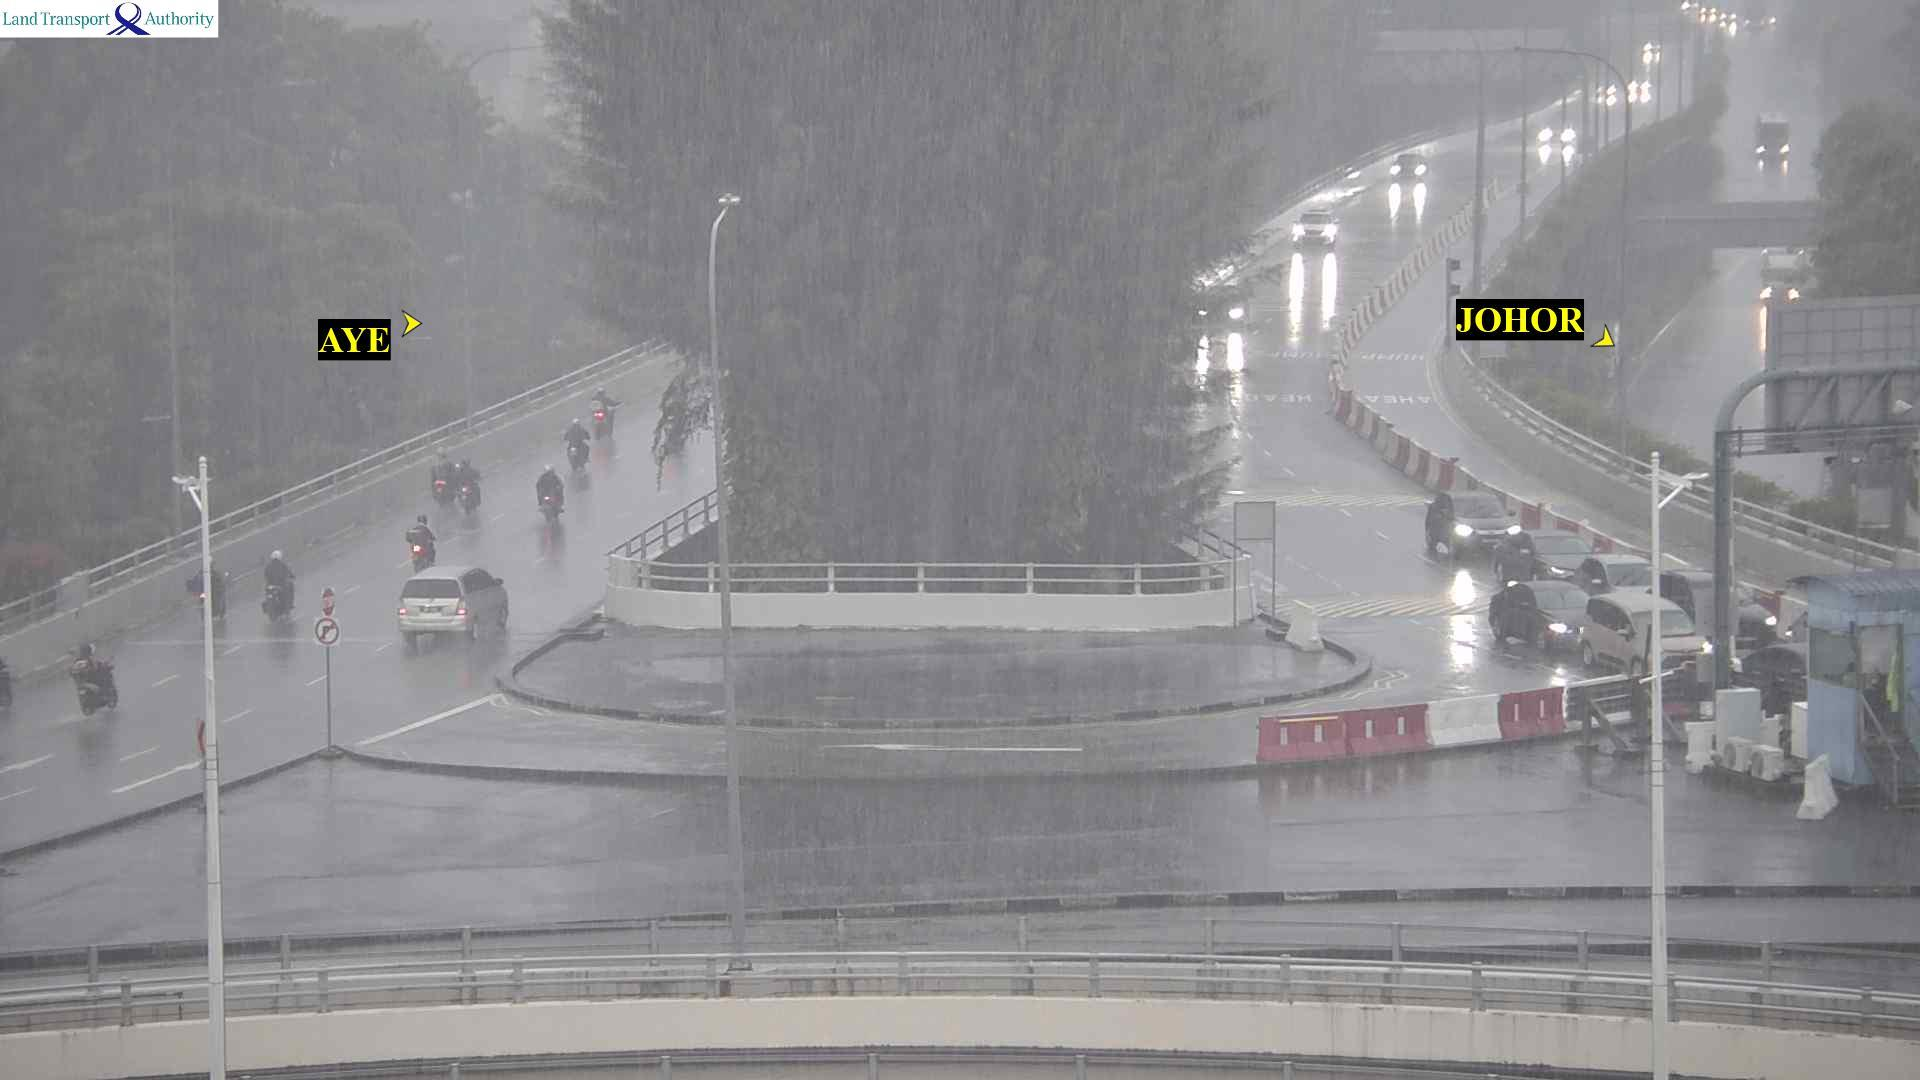vehicle-secondlink-johor: (1582, 599, 1706, 666), (1422, 487, 1519, 560), (1660, 571, 1776, 632), (1491, 579, 1586, 650), (1491, 530, 1601, 579), (1580, 550, 1658, 592), (1184, 282, 1259, 323), (1292, 199, 1341, 248), (1540, 108, 1578, 150), (1390, 152, 1431, 182)
vehicle-secondlink-singapore: (401, 563, 510, 638), (79, 634, 115, 716), (193, 560, 229, 624), (265, 547, 294, 618), (537, 467, 563, 527), (588, 389, 618, 439), (402, 517, 433, 563), (456, 455, 480, 513), (431, 448, 458, 498), (567, 419, 585, 471)
